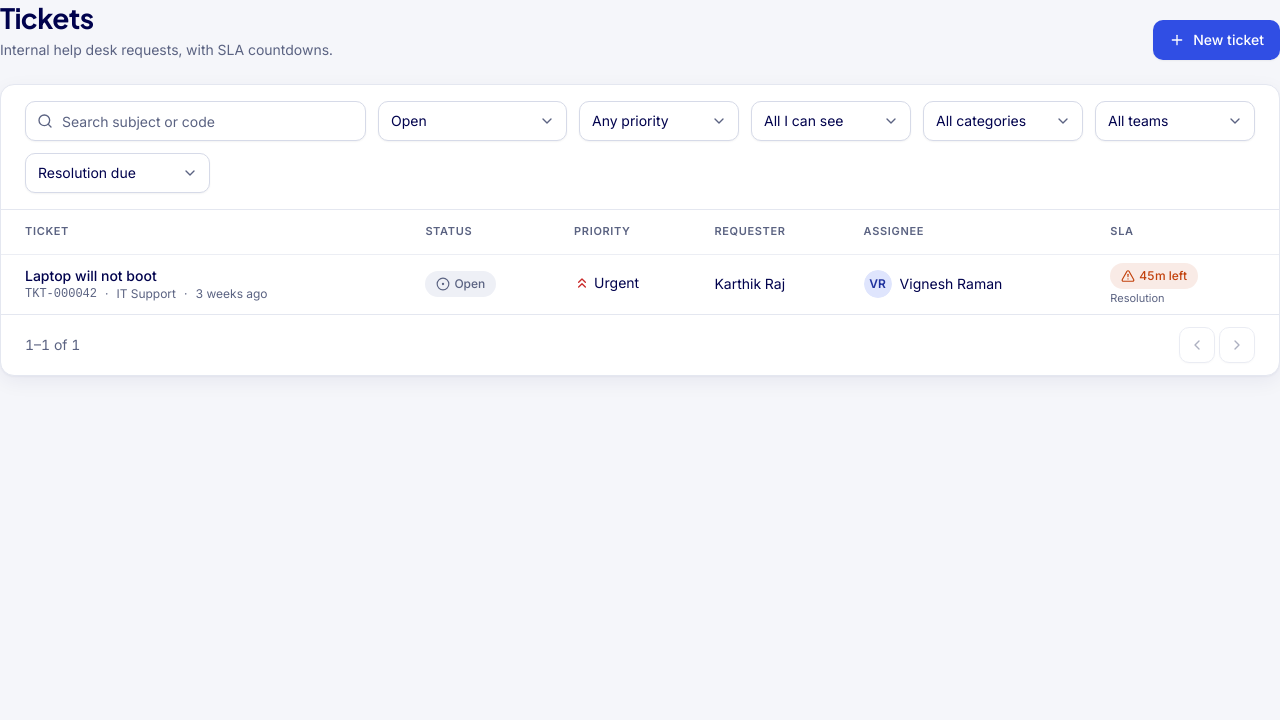
Test case: TicketsPage › shows the SLA targets for the chosen priority while raising a ticket
Click the button "New ticket" at (1217, 40), box [1153,20,1279,60]
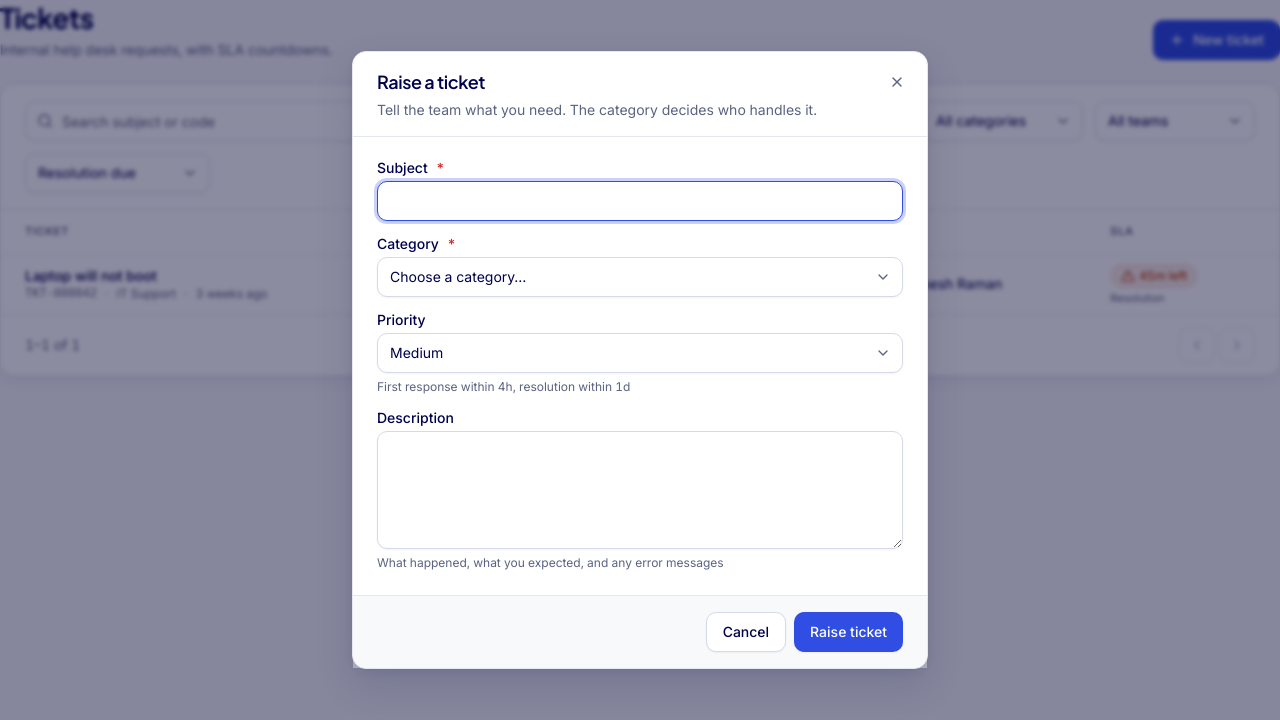
Result: the text "First response within 4h, resolution within 1d" is shown at [377,379,630,394]
Select "Urgent" in the dropdown labelled "Priority" at (640, 353), box [377,333,903,373]
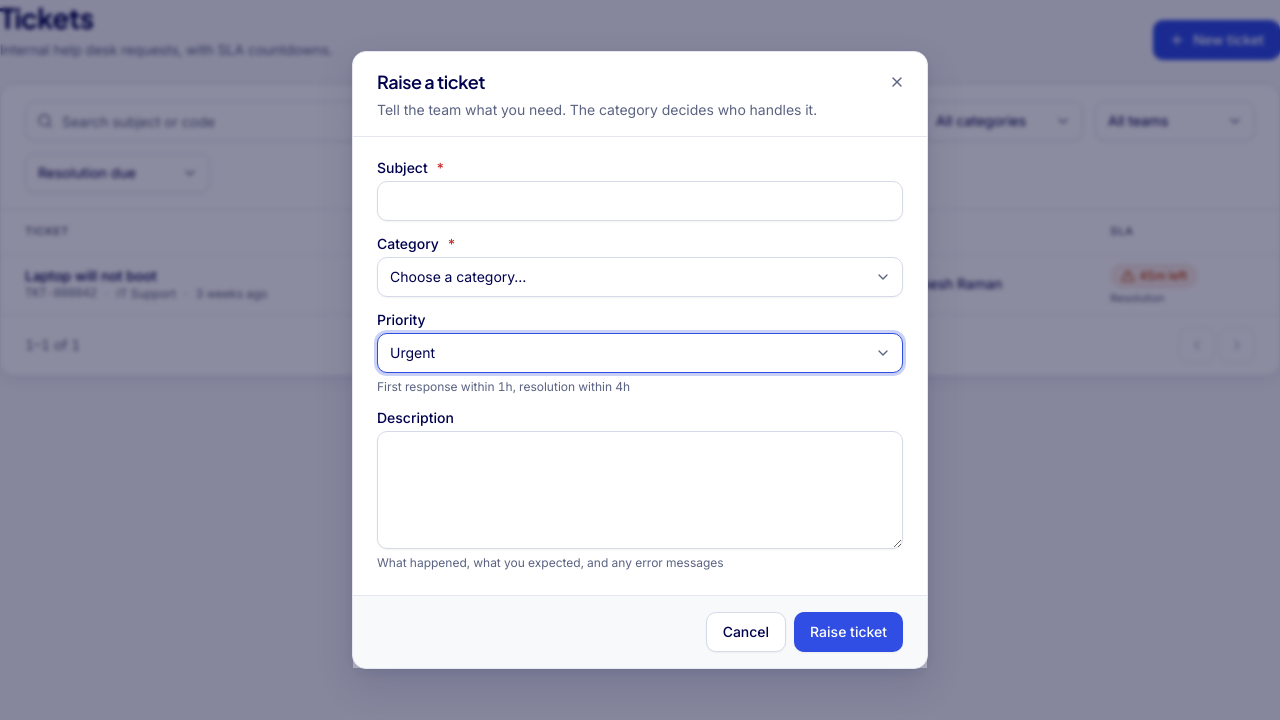
Result: the text "First response within 1h, resolution within 4h" is shown at [377,379,630,394]
